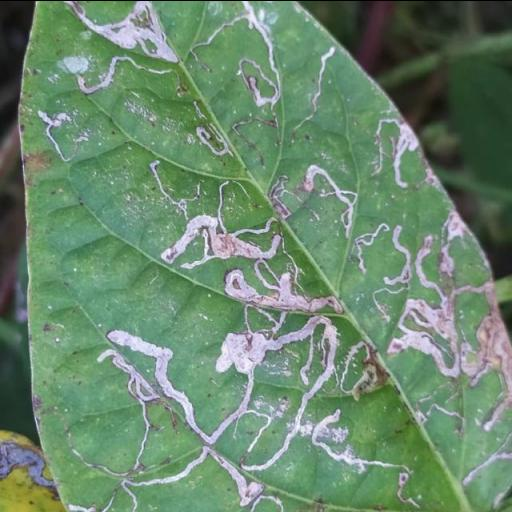Leaf Miner: (19, 0, 512, 512)
